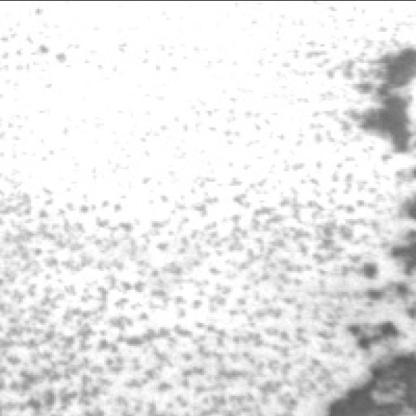patches: (324, 320, 414, 414), (343, 40, 414, 148)
pitted_surface: (0, 152, 360, 412)
